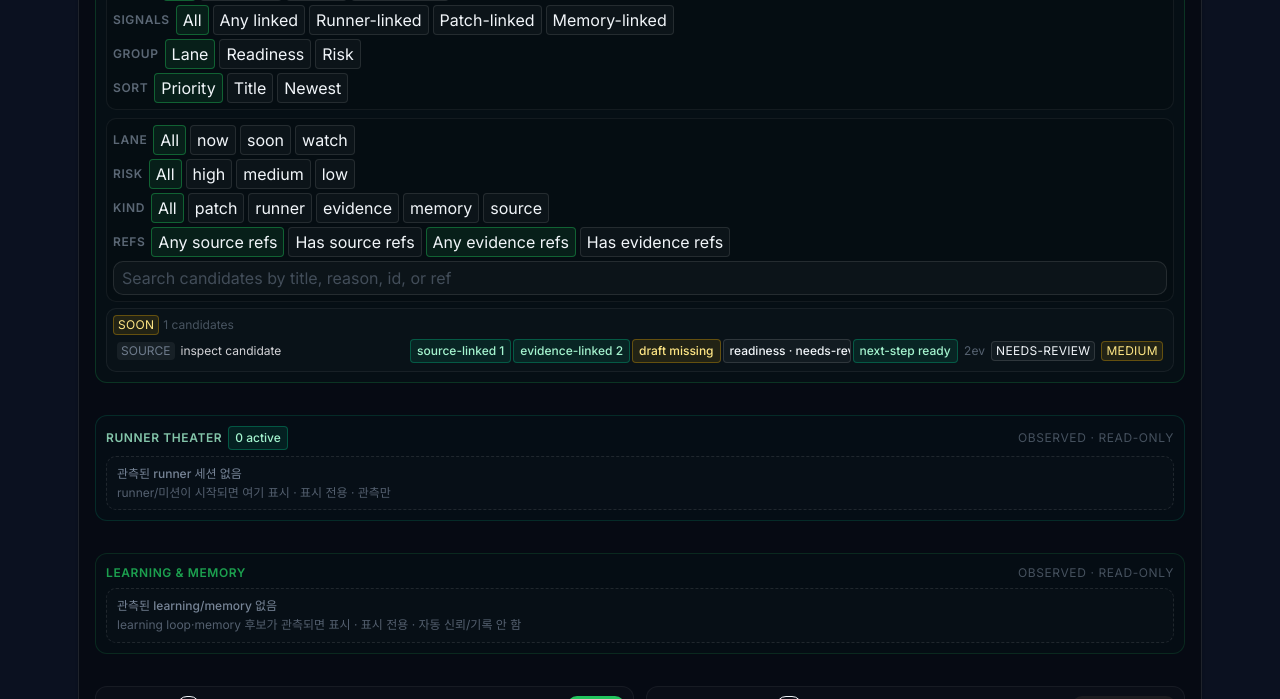
Test: E6 — WorkItem Candidate detail / link graph › opens a read-only local detail drawer from a candidate row and shows ref-only links
The image size is (1280, 699).
(page scrolled)
Click the button with test id "wic-row-wic-detail-1" at {"x": 640, "y": 350}, box [113,336,1167,364]
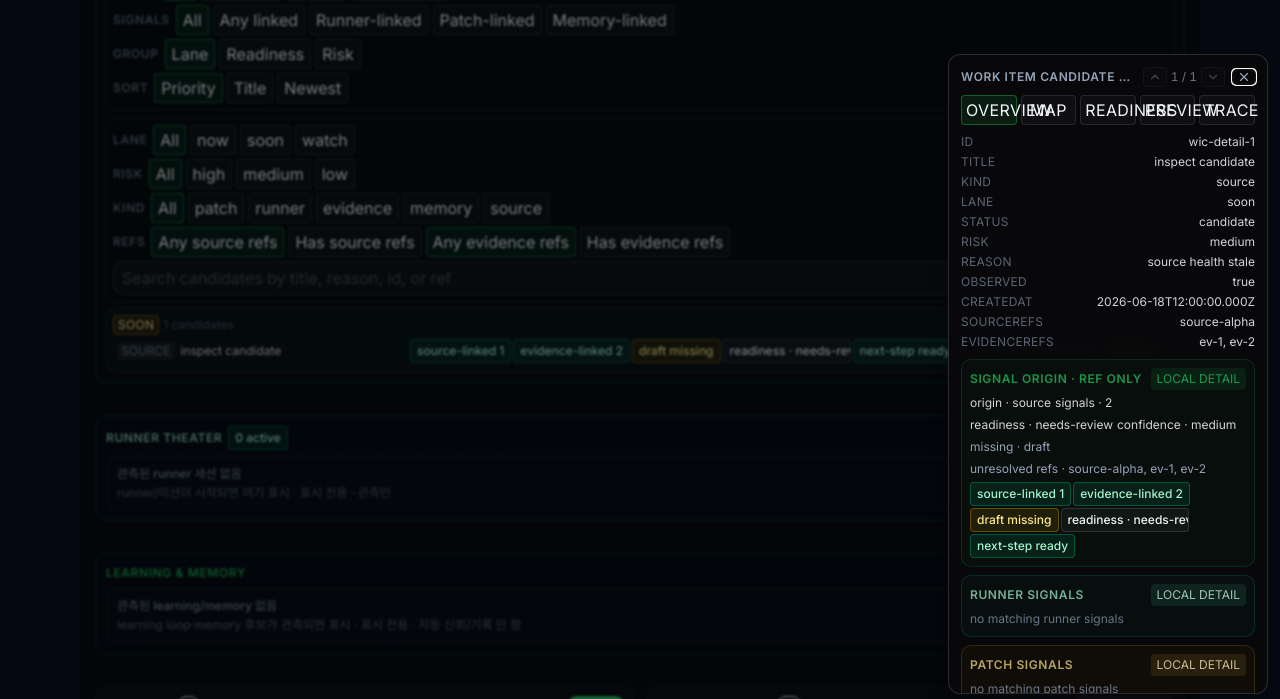
Now the element with test id "wic-detail-field-id" shows "wic-detail-1", box [1189,134,1255,149]
Now the element with test id "wic-detail-field-title" shows "inspect candidate", box [1154,154,1255,169]
Now the element with test id "wic-detail-field-kind" shows "source", box [1216,174,1255,189]
